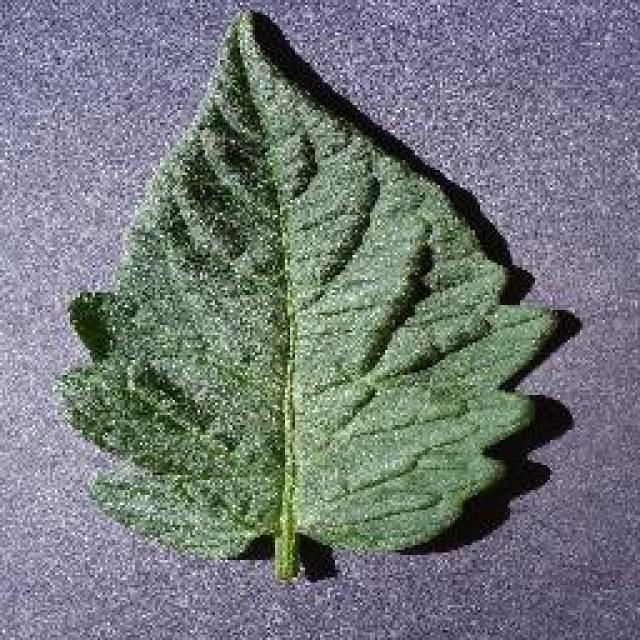Tomato___healthy: (65, 7, 570, 578)
